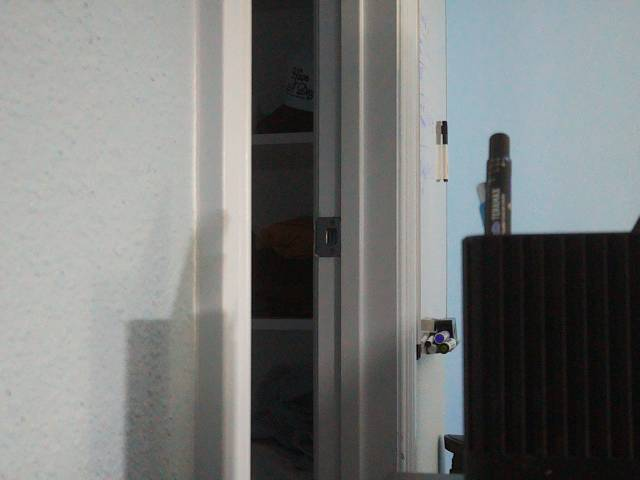crater: (187, 103, 402, 318), (223, 299, 403, 479), (164, 92, 342, 270), (164, 224, 341, 401), (181, 297, 341, 458), (421, 231, 574, 384), (213, 57, 364, 208), (222, 0, 367, 145), (422, 319, 464, 361)
shadow: (368, 442, 408, 480)
